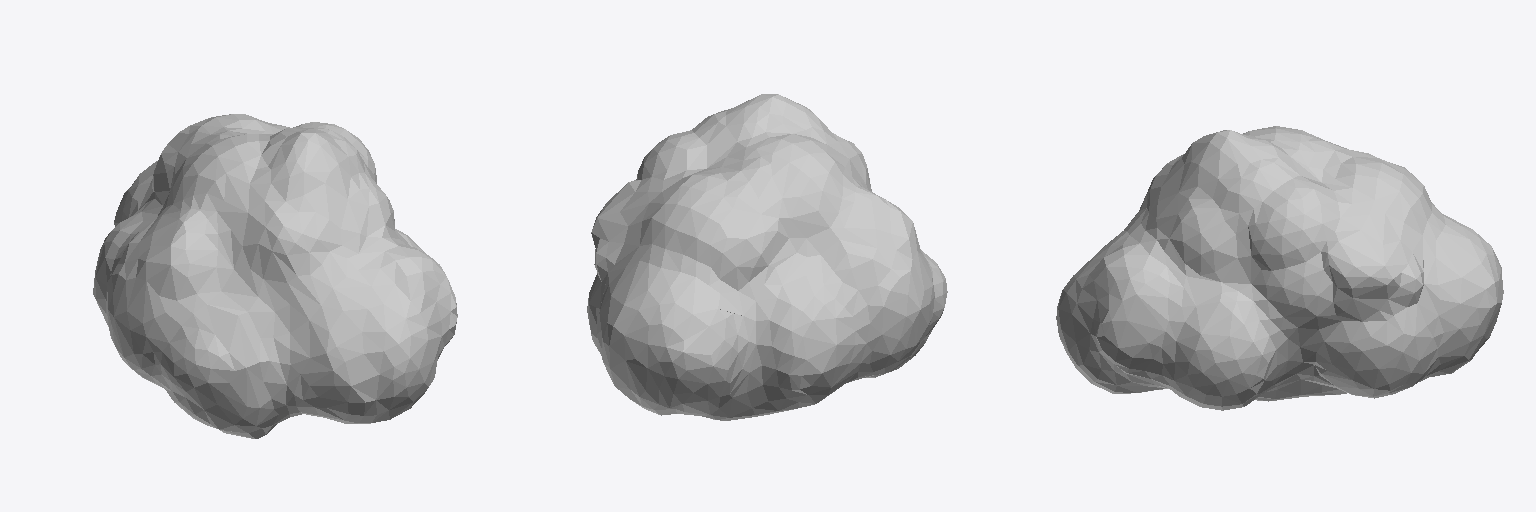
Rendered from Cloud_test3.obj.
The picture shows the model from 3 angles: view 1: azimuth 30°, elevation 25°; view 2: azimuth 150°, elevation 25°; view 3: azimuth 270°, elevation 25°; orthographic projection.
Visible parts, largest first — view 1: Cloud_test2:Group47713; view 2: Cloud_test2:Group47713; view 3: Cloud_test2:Group47713.
Boxes of the visible parts, <box> form: Cloud_test2:Group47713: <box>93,114,457,438</box>; Cloud_test2:Group47713: <box>587,94,947,420</box>; Cloud_test2:Group47713: <box>1056,126,1503,410</box>.
Size of the model in its own units: 21.11 by 18.61 by 27.74.